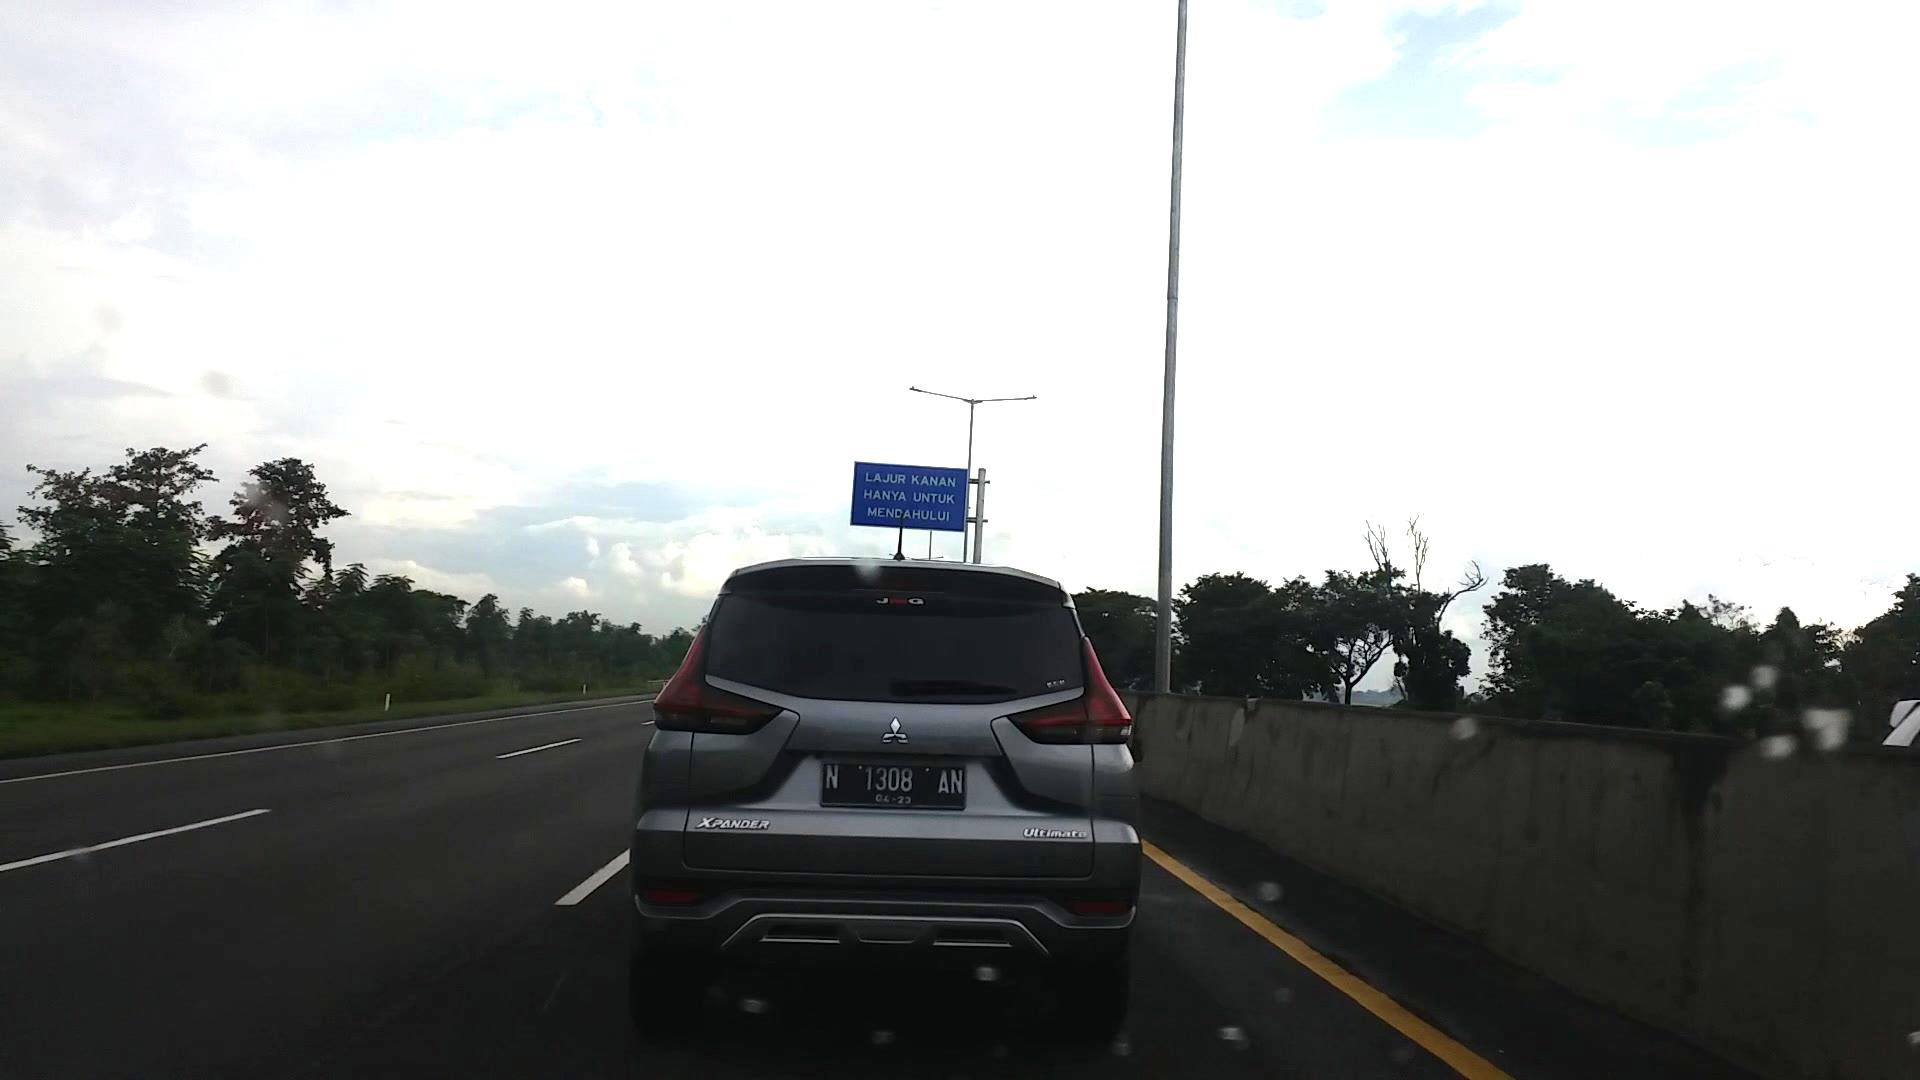plate_positive: (820, 762, 967, 810)
